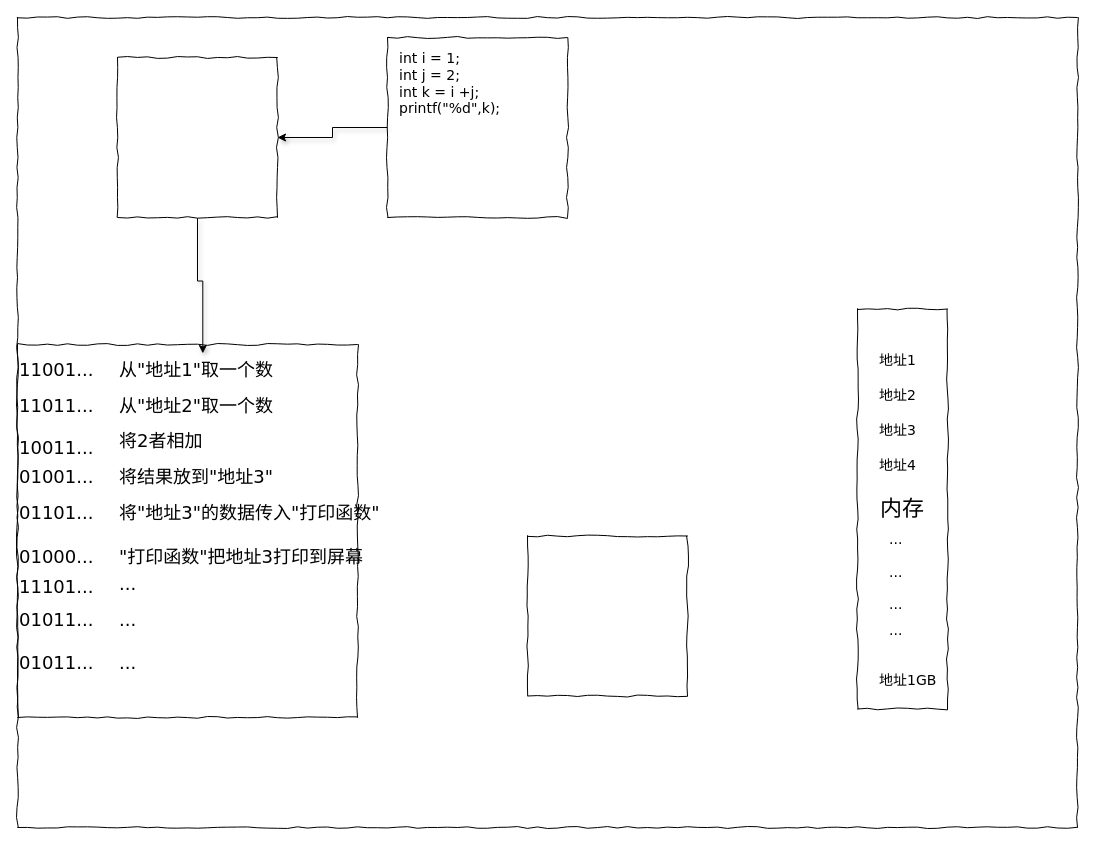
Some shapes in this 1095 by 845 pixel diagram are drawn without their labels. Each missing label, with the centre of its shape:
"CPU" belongs at (607,615).
"编译器爷爷" belongs at (197,137).
